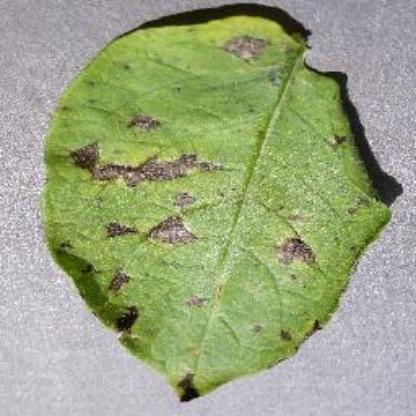Early-Blight: (42, 6, 394, 402)
